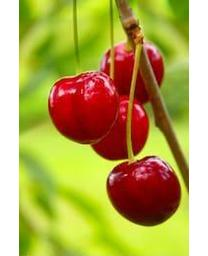cherry: (105, 155, 182, 229), (48, 72, 118, 145), (99, 40, 164, 108), (88, 93, 149, 160)
